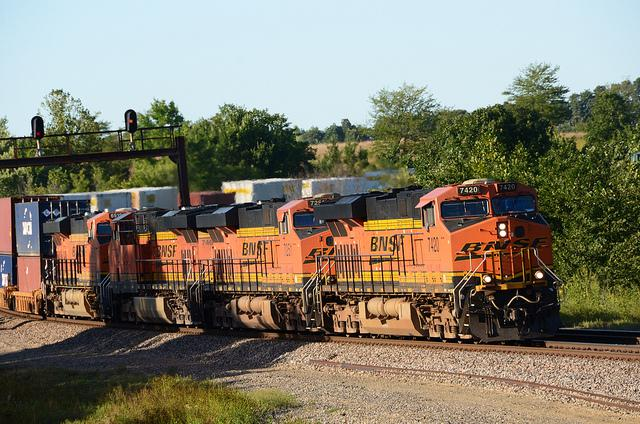Train: (2, 178, 564, 351)
